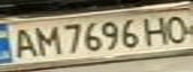6: (118, 16, 145, 50), (81, 19, 106, 52)
7: (60, 20, 84, 54)
9: (100, 18, 124, 52)
A: (6, 25, 39, 60)
H: (139, 14, 175, 47)
M: (30, 22, 60, 56)
O: (160, 12, 193, 44)
